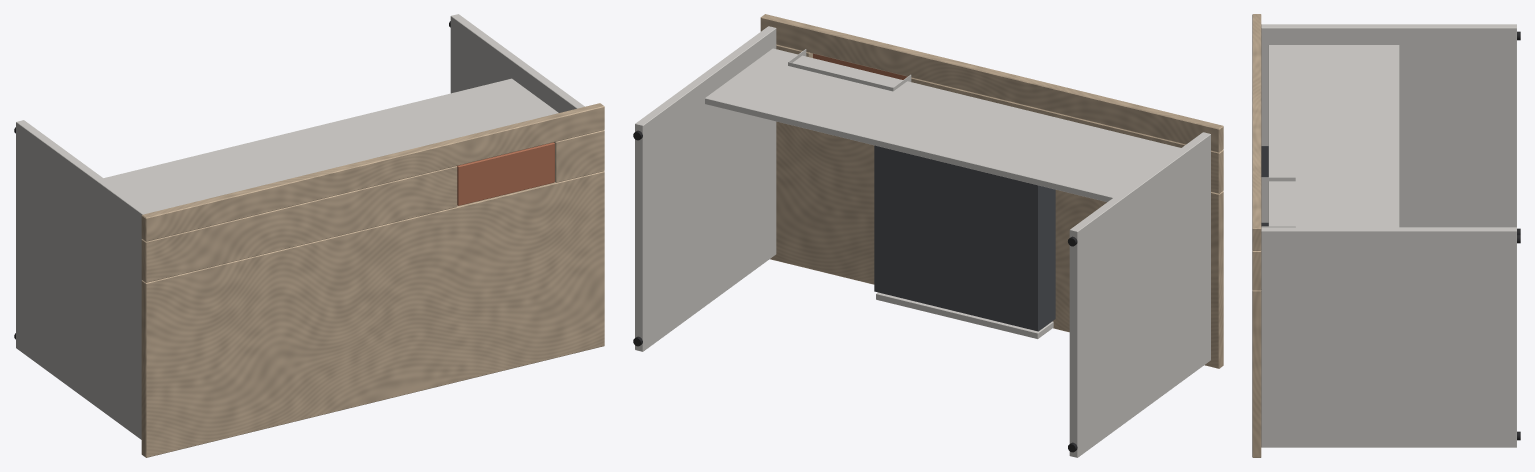
Rendered from Equipment__ShiftLeadDesk.glb.
3 renders of one model, left to right at view 1: azimuth 30°, elevation 25°; view 2: azimuth 150°, elevation 25°; view 3: azimuth 270°, elevation 25°, orthographic. The views are drawn at different scales.
Visible parts, largest first — view 1: /World/Equipment/ShiftLeadDesk/Visual/desk_with_drawer_body_, /World/Equipment/ShiftLeadDesk/Visual (×2); view 2: /World/Equipment/ShiftLeadDesk/Visual (×2), /World/Equipment/ShiftLeadDesk/Visual/desk_with_drawer_body_; view 3: /World/Equipment/ShiftLeadDesk/Visual (×2), /World/Equipment/ShiftLeadDesk/Visual/desk_with_drawer_body_.
Part boxes in pixels (x1,y1,x2,y2): /World/Equipment/ShiftLeadDesk/Visual/desk_with_drawer_body_: (141,103,604,457); /World/Equipment/ShiftLeadDesk/Visual (×2): (16,14,584,439); /World/Equipment/ShiftLeadDesk/Visual (×2): (635,26,1210,457); /World/Equipment/ShiftLeadDesk/Visual/desk_with_drawer_body_: (760,14,1223,368); /World/Equipment/ShiftLeadDesk/Visual (×2): (1261,24,1516,447); /World/Equipment/ShiftLeadDesk/Visual/desk_with_drawer_body_: (1252,14,1261,457).
Size of the model in its own units: 1.4 by 0.717 by 0.74.
Materials: 5 (1 with a texture image).
